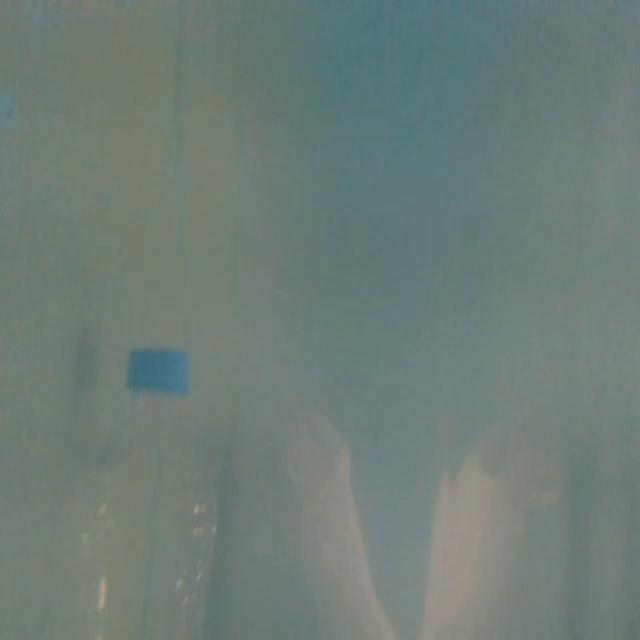plastic bags: (271, 377, 389, 640), (417, 433, 553, 640)
plastic bottle: (62, 339, 225, 640)
